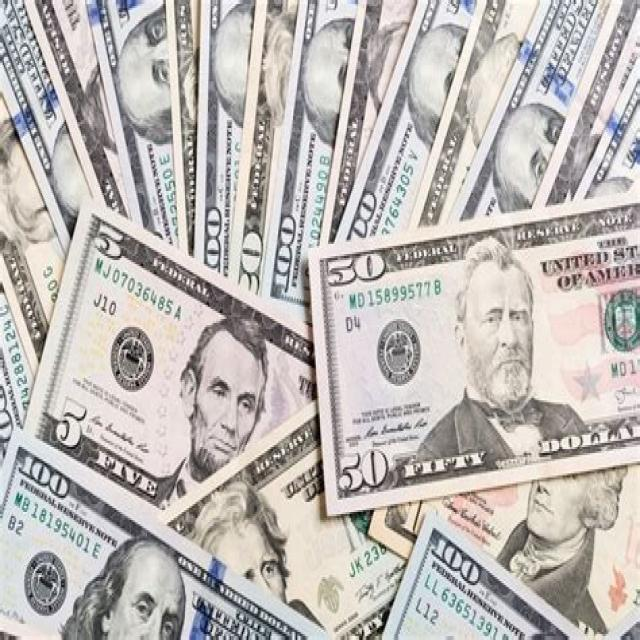Fifty: (307, 193, 640, 518)
Five: (25, 198, 321, 522)
Hundred: (0, 427, 332, 636), (263, 0, 364, 309), (378, 512, 597, 640)
Ten: (150, 396, 414, 640), (369, 462, 640, 626)
